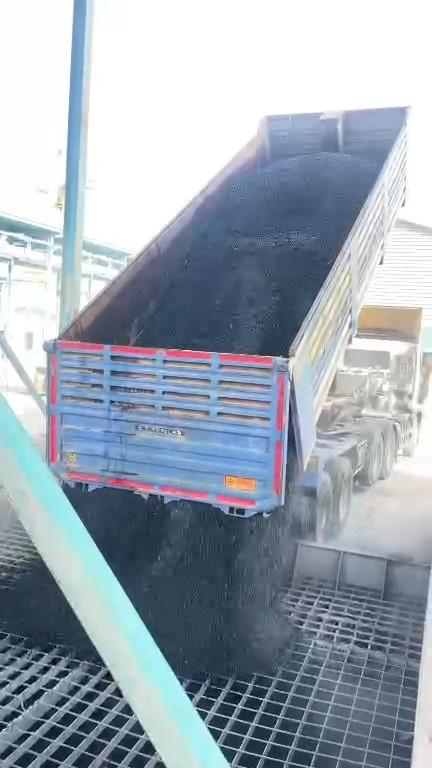gravel: (131, 153, 376, 353), (68, 489, 294, 675), (0, 560, 95, 656)
